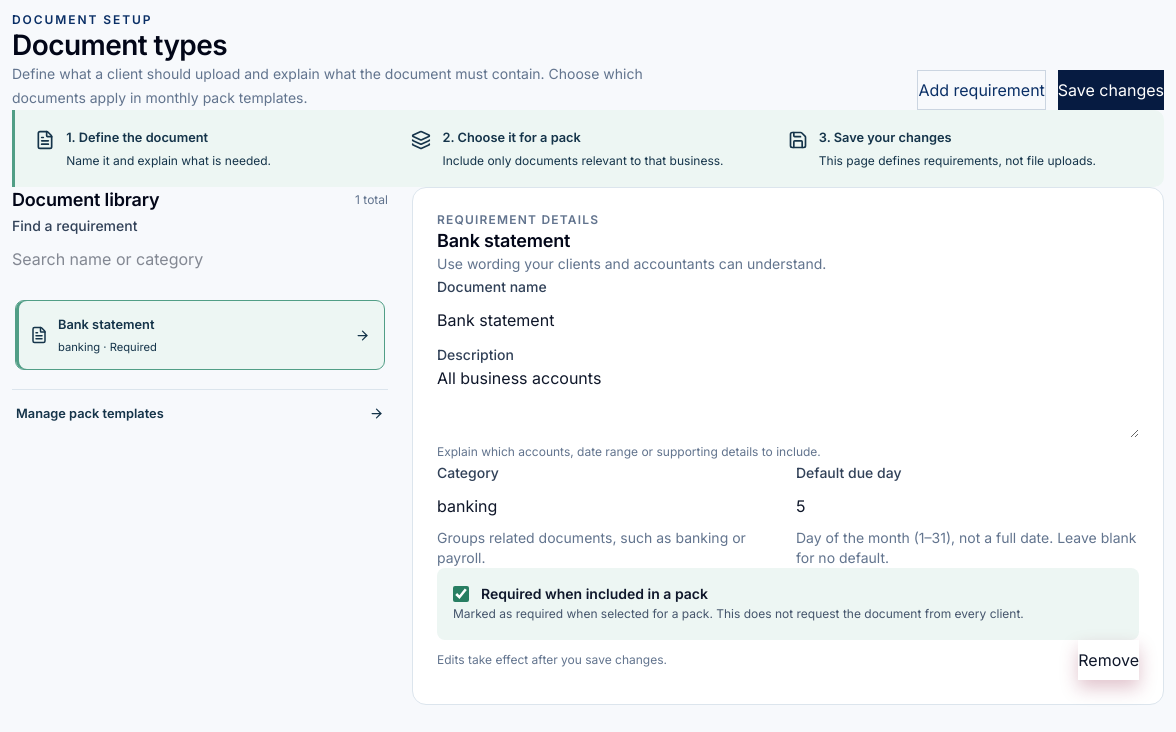
admin required documents › does not save an incomplete requirement hidden by selecting another
The image size is (1176, 732).
Expected: the field showing "Bank statement" is shown, [437, 298, 1139, 342]
Click the button "Add requirement" at (982, 90), box [917, 70, 1046, 110]
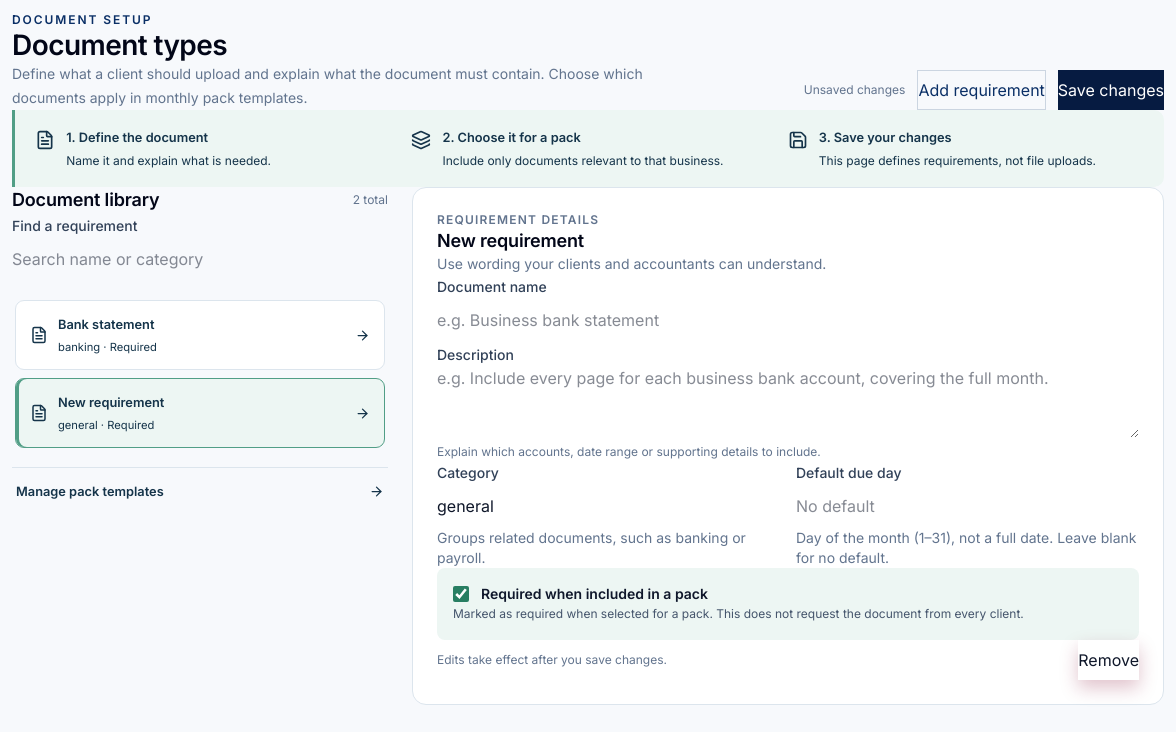
Expected: the field labelled "Document name" is empty, [437, 298, 1139, 342]
Click the button "Bank statement banking · Required" at (106, 324), box [15, 300, 385, 370]
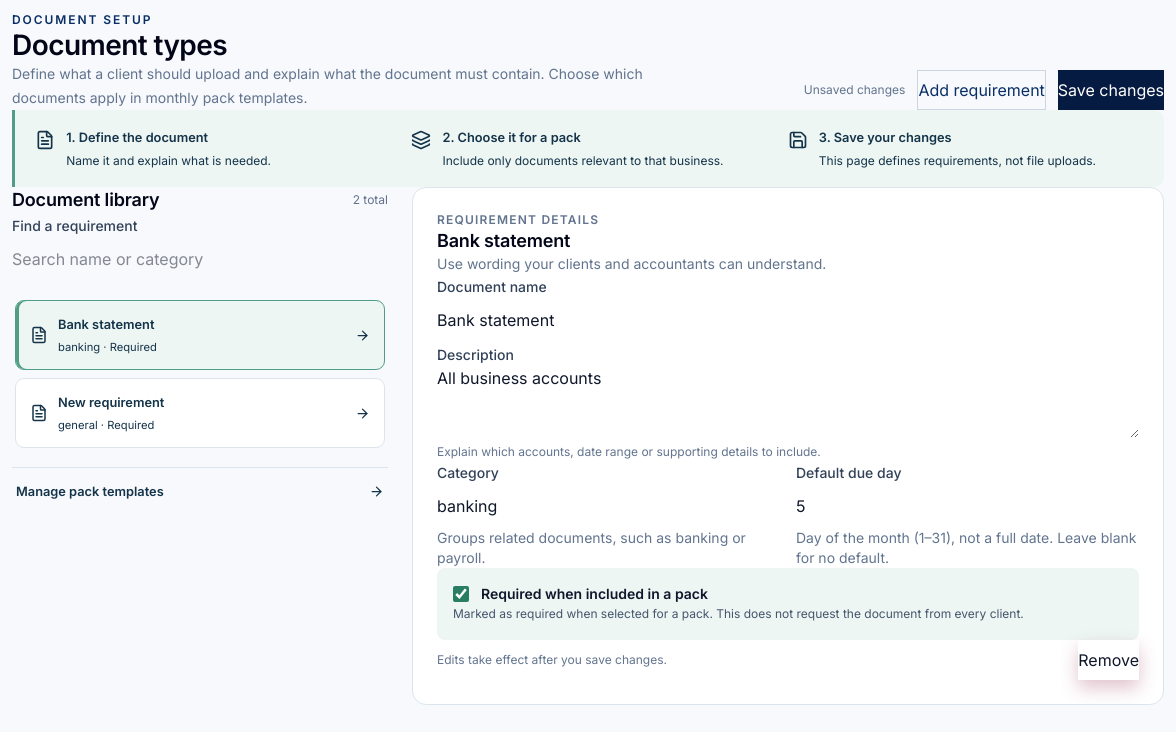
Click the button "Save changes" at (1111, 90), box [1058, 70, 1164, 110]
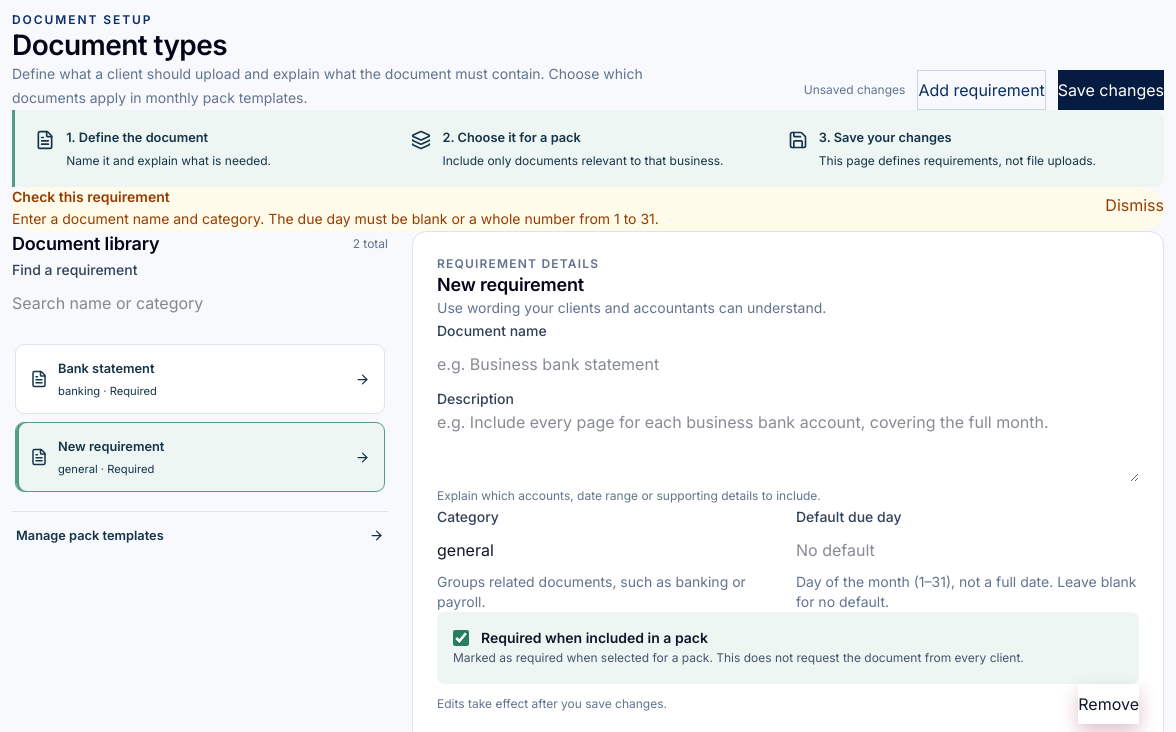
Expected: the text "Check this requirement" is shown, [12, 188, 170, 205]
Expected: the field labelled "Document name" is empty, [437, 342, 1139, 386]
